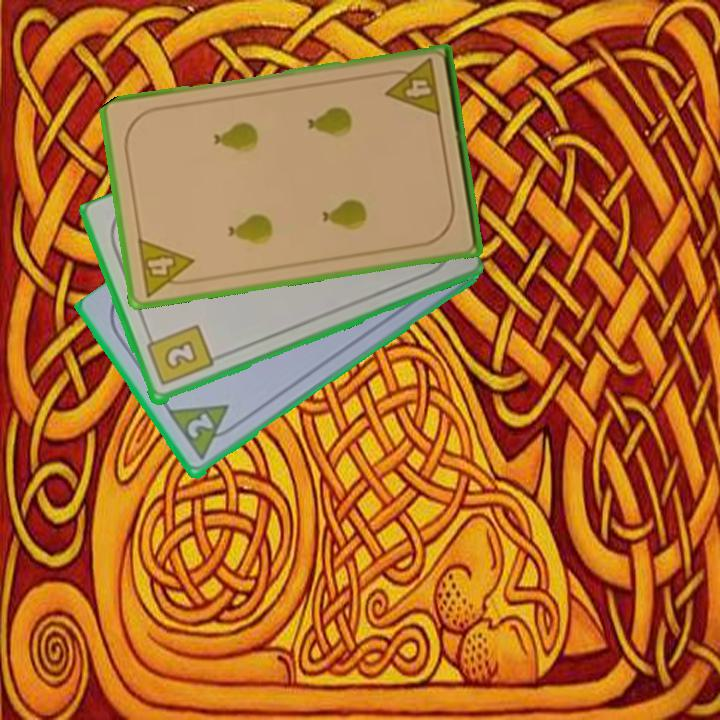2b: (142, 321, 216, 389)
2p: (183, 410, 217, 443)
4p: (134, 234, 200, 299), (380, 55, 444, 120)
